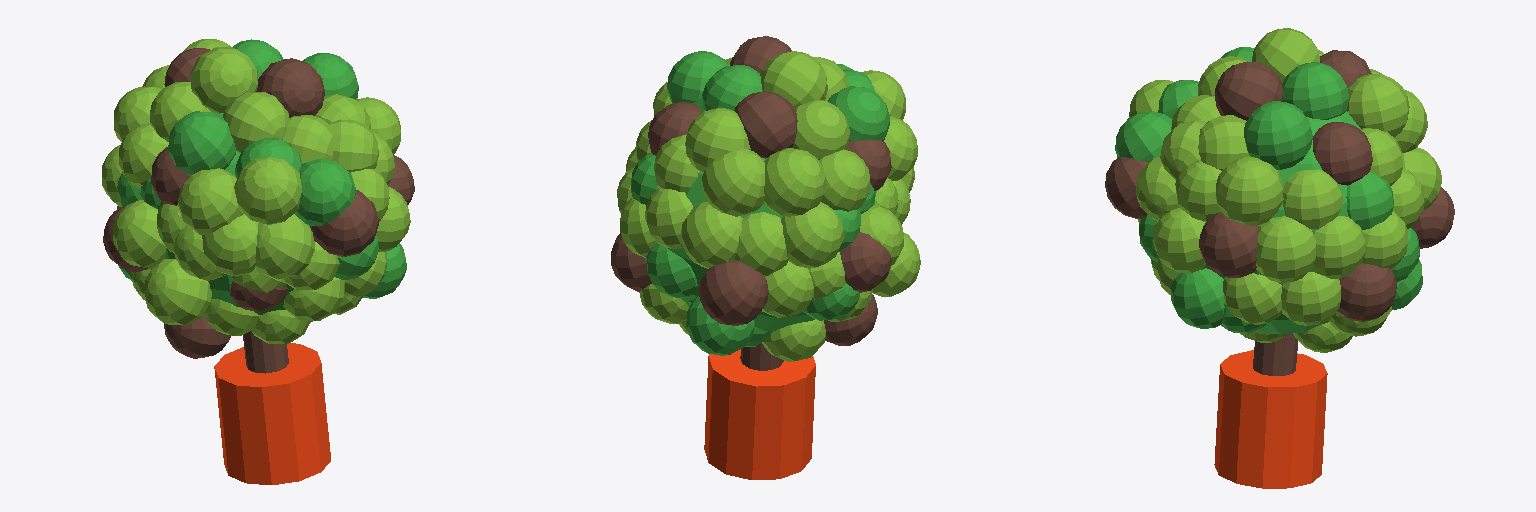
3 views of the same model, side by side, from view 1: azimuth 30°, elevation 25°; view 2: azimuth 150°, elevation 25°; view 3: azimuth 270°, elevation 25° (orthographic).
Parts seen in each view (by area): view 1: group[number redacted], group[number redacted], group[number redacted], group[number redacted], group[number redacted], group[number redacted], group[number redacted], group[number redacted], group[number redacted], group[number redacted], group[number redacted], group[number redacted] (+28 smaller); view 2: group[number redacted], group[number redacted], group[number redacted], group[number redacted], group[number redacted], group[number redacted], group[number redacted], group[number redacted], group[number redacted], group[number redacted], group[number redacted], group[number redacted] (+28 smaller); view 3: group[number redacted], group[number redacted], group[number redacted], group[number redacted], group[number redacted], group[number redacted], group[number redacted], group[number redacted], group[number redacted], group[number redacted], group[number redacted], group[number redacted] (+28 smaller).
Part boxes in pixels (x1,y1,x2,y2): group[number redacted]: (214, 343, 330, 484); group[number redacted]: (234, 157, 301, 224); group[number redacted]: (168, 111, 235, 174); group[number redacted]: (144, 259, 211, 324); group[number redacted]: (190, 47, 257, 113); group[number redacted]: (178, 168, 243, 234); group[number redacted]: (294, 158, 355, 225); group[number redacted]: (255, 214, 314, 279); group[number redacted]: (256, 58, 324, 117); group[number redacted]: (223, 92, 289, 152); group[number redacted]: (113, 200, 165, 268); group[number redacted]: (310, 190, 378, 256); group[number redacted]: (704, 349, 815, 479); group[number redacted]: (699, 259, 768, 325); group[number redacted]: (764, 148, 826, 216); group[number redacted]: (702, 149, 764, 216); group[number redacted]: (734, 91, 797, 158); group[number redacted]: (781, 202, 843, 268); group[number redacted]: (681, 202, 742, 268); group[number redacted]: (760, 51, 827, 108); group[number redacted]: (685, 108, 750, 172); group[number redacted]: (792, 100, 849, 159); group[number redacted]: (735, 212, 788, 276); group[number redacted]: (818, 149, 870, 211); group[number redacted]: (1214, 350, 1327, 488); group[number redacted]: (1216, 157, 1283, 225); group[number redacted]: (1244, 101, 1312, 169); group[number redacted]: (1256, 216, 1315, 282); group[number redacted]: (1199, 212, 1258, 277); group[number redacted]: (1347, 74, 1409, 137); group[number redacted]: (1282, 62, 1348, 119); group[number redacted]: (1313, 122, 1372, 185); group[number redacted]: (1215, 61, 1283, 120); group[number redacted]: (1283, 169, 1342, 228); group[number redacted]: (1337, 263, 1396, 321); group[number redacted]: (1171, 268, 1224, 328).
Size of the model in its own units: 0.5787 by 0.8589 by 0.6469.